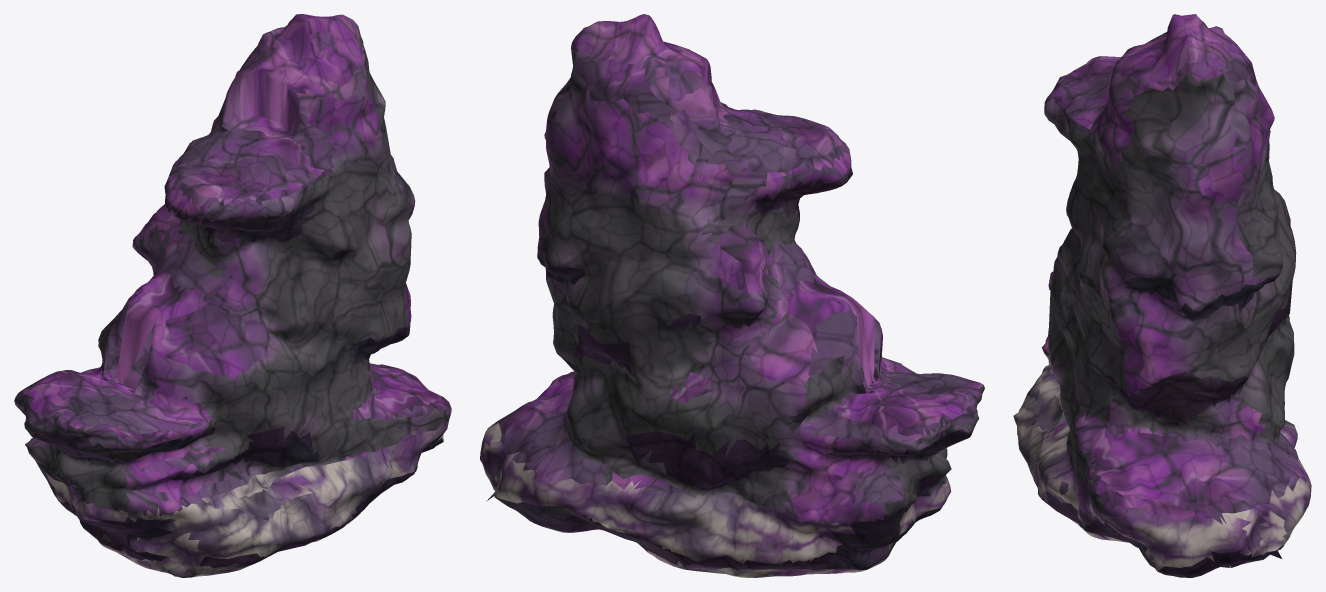
File: reef-nsa-pinnacle-spire.glb
3 renders of one model, left to right at view 1: azimuth 30°, elevation 25°; view 2: azimuth 150°, elevation 25°; view 3: azimuth 270°, elevation 25°, orthographic. The views are drawn at different scales.
Visible parts, largest first — view 1: Reef_NSA_Pinnacle_Spire; view 2: Reef_NSA_Pinnacle_Spire; view 3: Reef_NSA_Pinnacle_Spire.
Part boxes in pixels (x1=…): Reef_NSA_Pinnacle_Spire: x1=14, y1=14, x2=451, y2=577; Reef_NSA_Pinnacle_Spire: x1=480, y1=14, x2=984, y2=577; Reef_NSA_Pinnacle_Spire: x1=1013, y1=14, x2=1311, y2=577.
Size of the model in its own units: 0.6736 by 0.7157 by 0.3702.
1 material, 1 textured.
